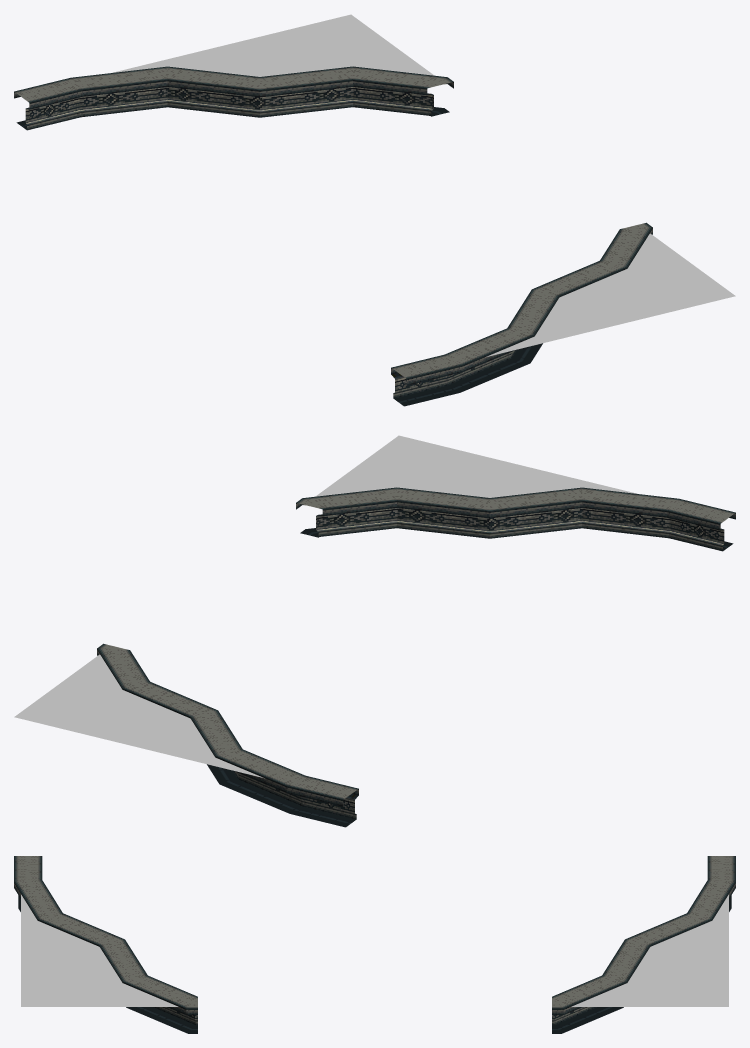
Rendered from EnvMdrMD_Daiseidou_B_GrdLine_Floor.FBX.
3 renders of one model, top to bottom at view 1: azimuth 30°, elevation 25°; view 2: azimuth 150°, elevation 25°; view 3: azimuth 270°, elevation 25°, orthographic. The views are drawn at different scales.
Parts seen in each view (by area): view 1: EnvMdrMD_Daiseidou_B_GrdLine_Floor; view 2: EnvMdrMD_Daiseidou_B_GrdLine_Floor; view 3: EnvMdrMD_Daiseidou_B_GrdLine_Floor.
Boxes of the visible parts, left/top/right/bottom form: EnvMdrMD_Daiseidou_B_GrdLine_Floor: left=14, top=14, right=735, bottom=406; EnvMdrMD_Daiseidou_B_GrdLine_Floor: left=14, top=435, right=735, bottom=827; EnvMdrMD_Daiseidou_B_GrdLine_Floor: left=14, top=856, right=735, bottom=1033.
Bounding box in the file's own units: 1275 × 105 × 2550.
